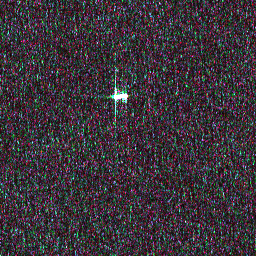ship: (110, 92, 129, 101)
